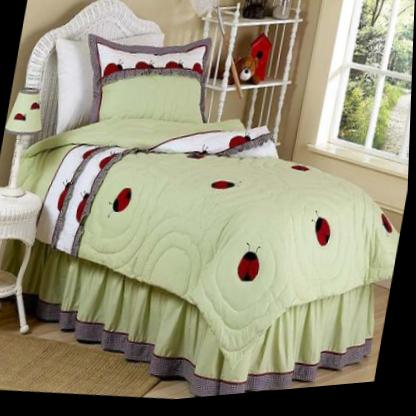Bed: (10, 2, 402, 401)
Carpet: (0, 326, 157, 400)
